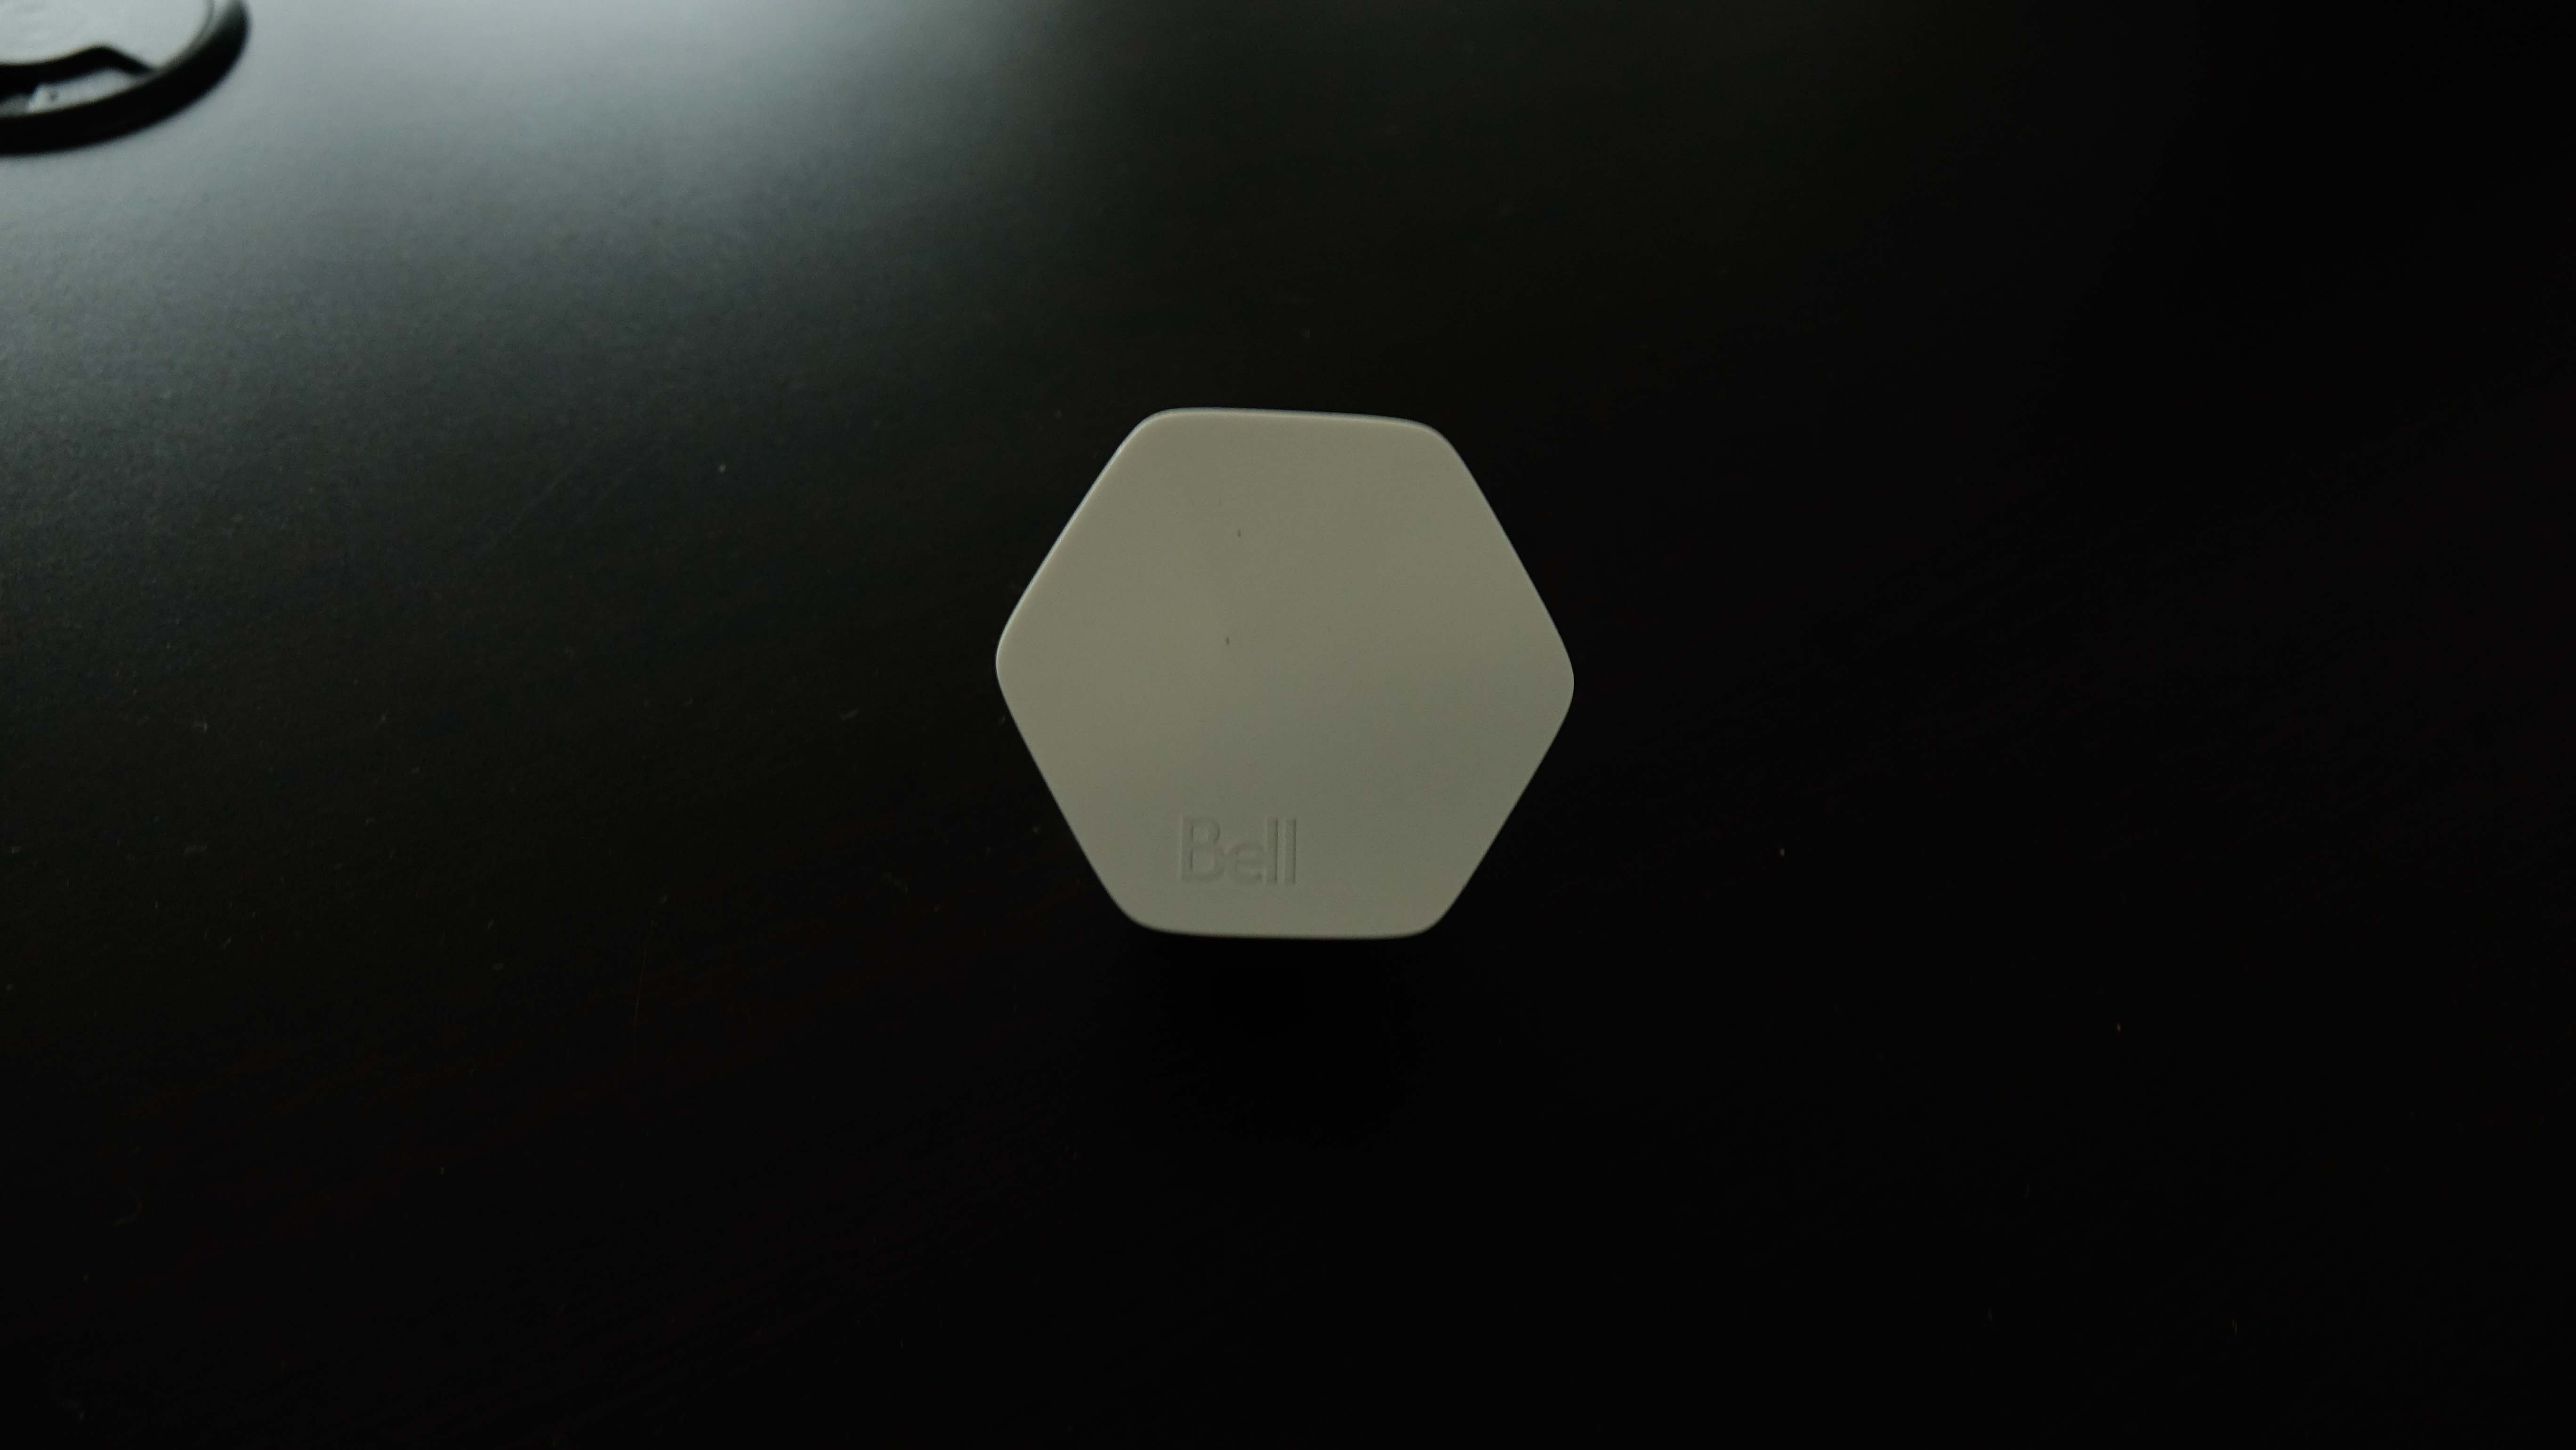pod: (978, 393, 1594, 955)
